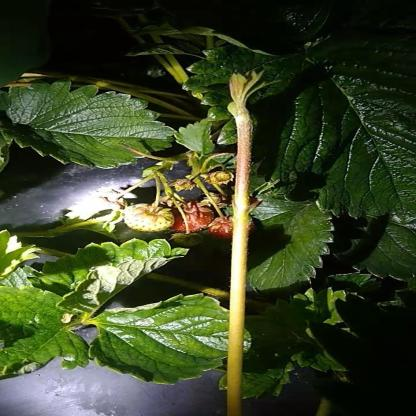ripe: (173, 208, 213, 231), (212, 216, 252, 238)
unripe: (122, 204, 173, 232), (171, 233, 203, 246)
